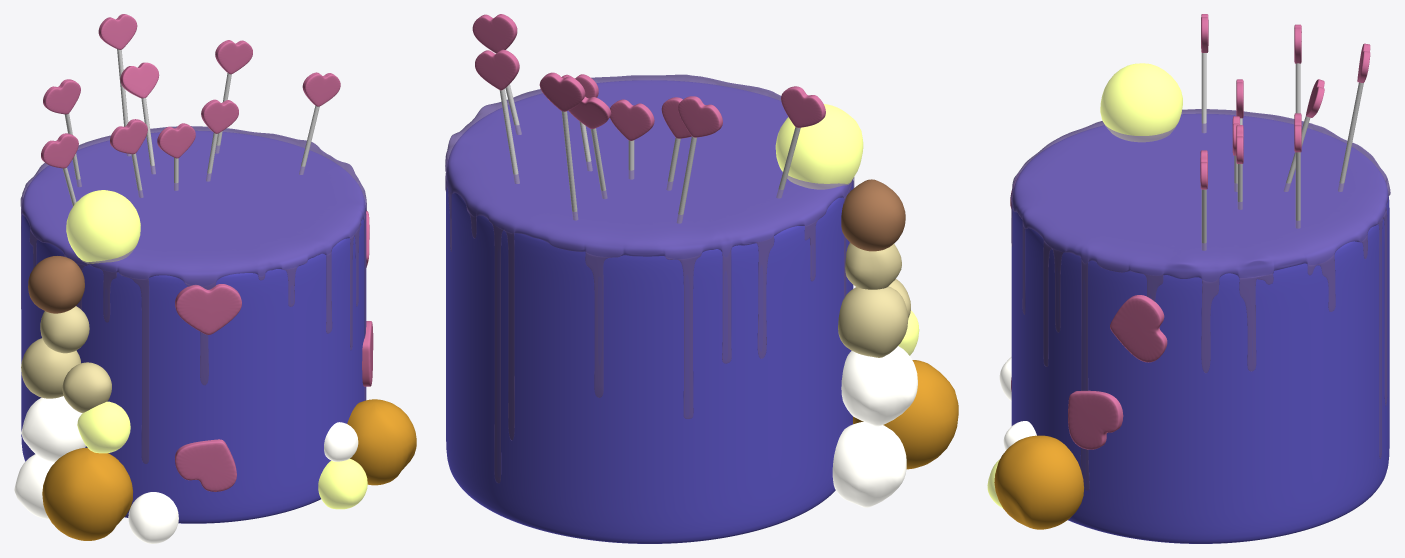
The model's file is Cake_Layer_1_Purple_Topper1_Hearts_VioletDrip.glb.
3 views of the same model, side by side, from view 1: azimuth 30°, elevation 25°; view 2: azimuth 150°, elevation 25°; view 3: azimuth 270°, elevation 25° (orthographic). The views are drawn at different scales.
Visible parts, largest first — view 1: Circle, Circle.001, Sphere, Sphere.015, Sphere.026, Sphere.002, Sphere.006, Star.003, Star.002, Sphere.005, Sphere.003, Sphere.001 (+15 smaller); view 2: Circle, Circle.001, Sphere.015, Sphere.013, Sphere.002, Sphere, Sphere.005, Sphere.006, Sphere.010, Star.006, Star.005, Star.009 (+6 smaller); view 3: Circle, Circle.001, Sphere.026, Sphere.015, Star.001, Star.004, Cylinder.049, Sphere.027.
Boxes of the visible parts, x1,y1,x2,y2 form: Circle: (21, 131, 366, 523); Circle.001: (20, 126, 366, 463); Sphere: (42, 448, 132, 540); Sphere.015: (66, 190, 140, 263); Sphere.026: (347, 399, 416, 485); Sphere.002: (21, 396, 85, 462); Sphere.006: (28, 256, 84, 313); Star.003: (175, 284, 241, 334); Star.002: (175, 439, 236, 491); Sphere.005: (21, 338, 80, 398); Sphere.003: (77, 401, 130, 453); Sphere.001: (128, 492, 178, 543); Circle: (446, 80, 853, 543); Circle.001: (445, 74, 854, 483); Sphere.015: (775, 104, 863, 189); Sphere.013: (832, 421, 906, 507); Sphere.002: (841, 346, 917, 426); Sphere: (853, 360, 958, 469); Sphere.005: (838, 286, 908, 357); Sphere.006: (841, 179, 905, 251); Sphere.010: (845, 242, 901, 289); Star.006: (678, 96, 722, 137); Star.005: (781, 86, 825, 127); Star.009: (475, 49, 519, 90); Circle: (1011, 114, 1389, 543); Circle.001: (1010, 109, 1390, 490); Sphere.026: (994, 435, 1083, 529); Sphere.015: (1100, 63, 1182, 141); Star.001: (1110, 295, 1167, 362); Star.004: (1068, 390, 1123, 449); Cylinder.049: (1338, 82, 1363, 191); Sphere.027: (1003, 421, 1036, 450).
Bounding box in the file's own units: 0.1763 × 0.1867 × 0.159.
